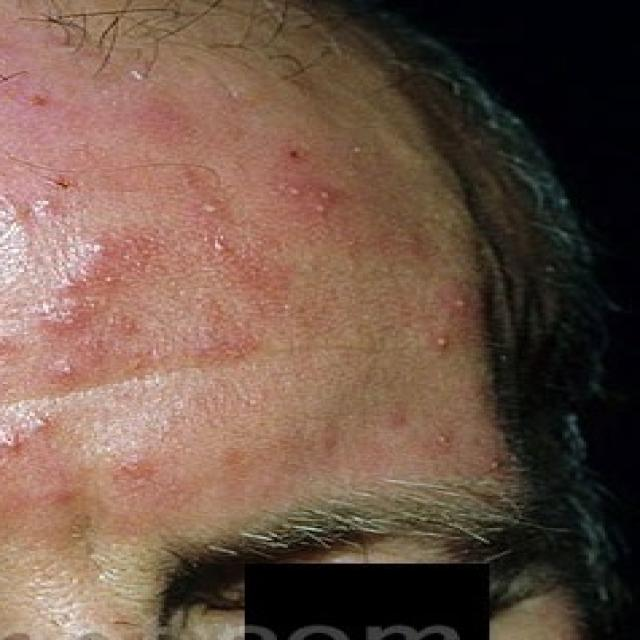Rosacea: (8, 216, 173, 366)
